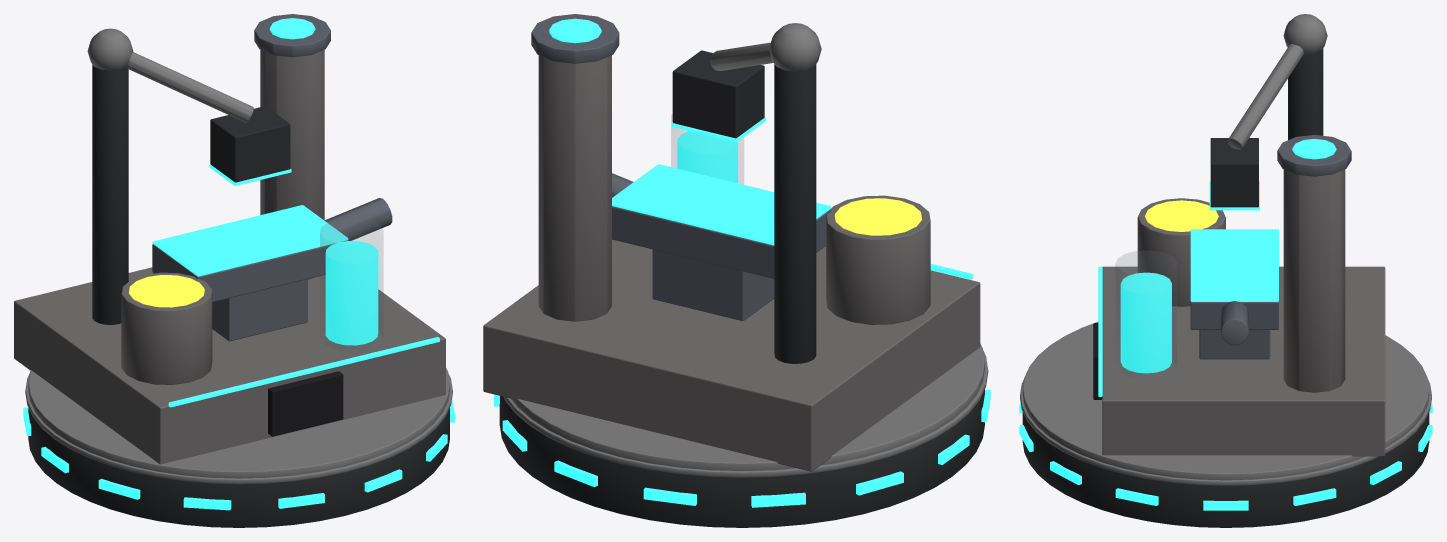
The model's file is Forge_Anvil.glb.
3 views of the same model, side by side, from view 1: azimuth 30°, elevation 25°; view 2: azimuth 150°, elevation 25°; view 3: azimuth 270°, elevation 25° (orthographic). The views are drawn at different scales.
Parts seen in each view (by area): view 1: Forge_Anvil; view 2: Forge_Anvil; view 3: Forge_Anvil.
Part boxes in pixels (<box>): Forge_Anvil: <box>14,14,454,527</box>; Forge_Anvil: <box>483,14,990,527</box>; Forge_Anvil: <box>1019,14,1432,527</box>.
Size of the model in its own units: 4.68 by 4.81 by 4.68.
